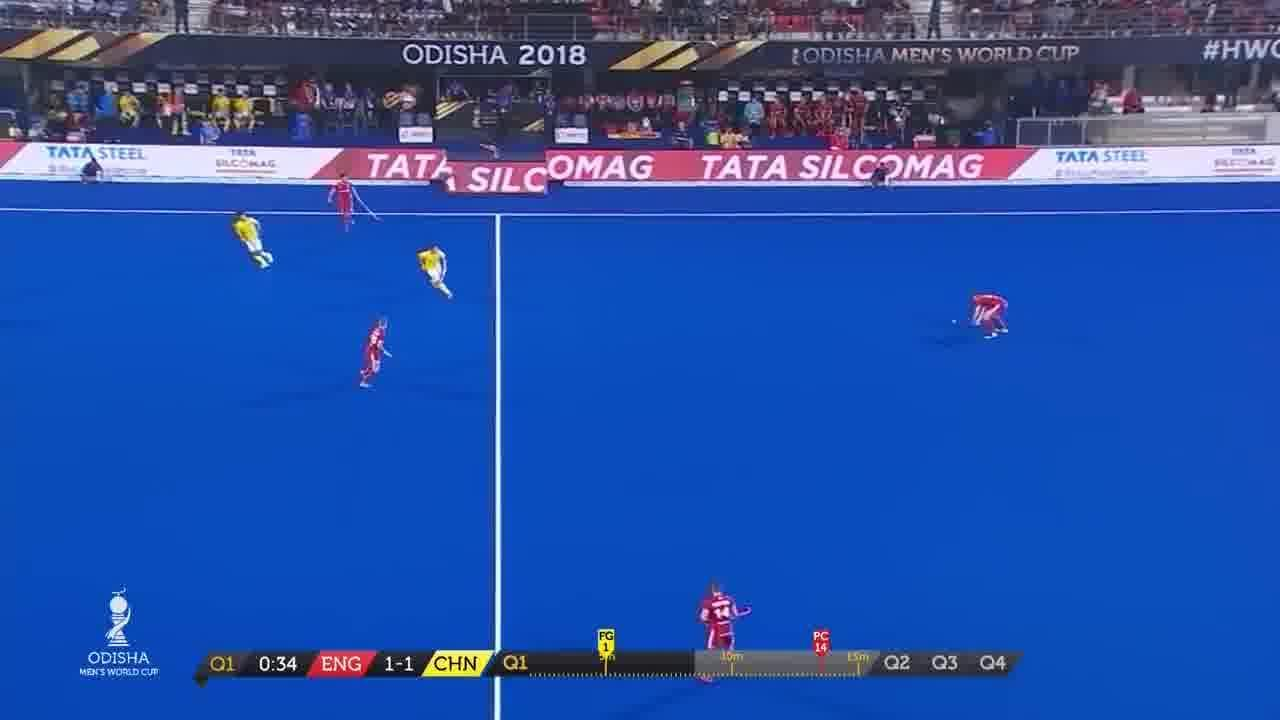ball: (949, 317, 959, 326)
